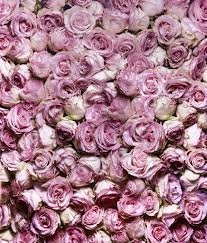lale: (128, 118, 167, 152), (5, 106, 41, 135), (149, 11, 180, 44), (71, 121, 101, 153), (60, 8, 97, 33), (51, 116, 78, 149), (131, 26, 161, 55), (30, 212, 62, 239), (8, 14, 38, 41), (35, 180, 70, 202), (38, 6, 66, 33), (185, 191, 207, 225), (30, 153, 60, 177), (165, 38, 191, 65), (140, 66, 166, 93), (165, 74, 190, 102), (11, 64, 36, 91), (68, 163, 93, 190), (88, 123, 118, 145), (158, 118, 183, 144), (76, 206, 105, 228), (148, 222, 178, 243), (183, 144, 203, 175), (48, 26, 76, 48), (30, 51, 55, 75), (80, 28, 105, 51), (53, 51, 73, 79), (115, 31, 138, 54), (186, 81, 201, 100)
